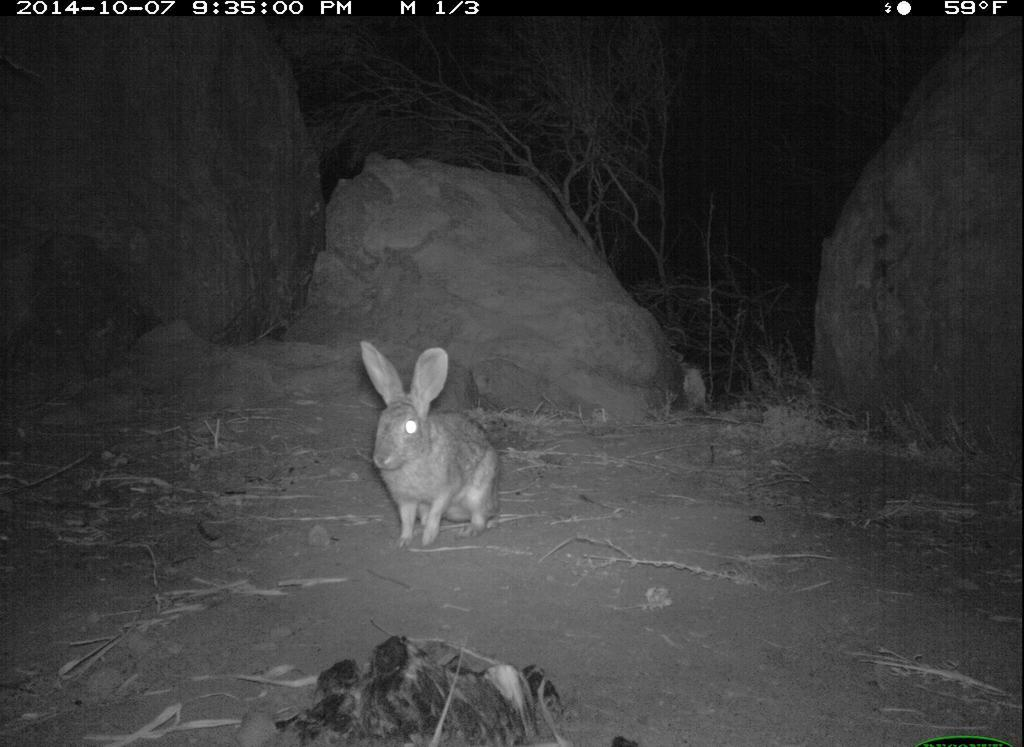rabbit: (354, 326, 523, 553)
